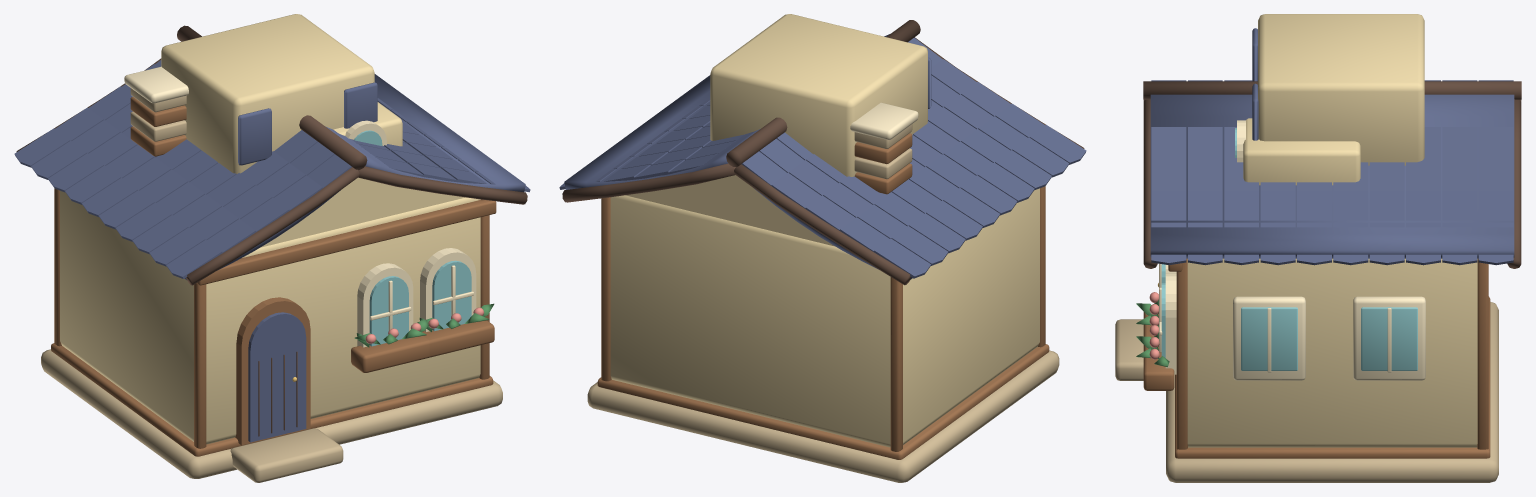
File: watchtower.glb
3 renders of one model, left to right at view 1: azimuth 30°, elevation 25°; view 2: azimuth 150°, elevation 25°; view 3: azimuth 270°, elevation 25°, orthographic. The views are drawn at different scales.
Visible parts, largest first — view 1: watchtower_crafted_mesh; view 2: watchtower_crafted_mesh; view 3: watchtower_crafted_mesh.
Part boxes in pixels (<box>): watchtower_crafted_mesh: <box>14,14,530,482</box>; watchtower_crafted_mesh: <box>559,14,1086,482</box>; watchtower_crafted_mesh: <box>1115,14,1521,482</box>.
Bounding box in the file's own units: 5 × 4.48 × 4.64.
